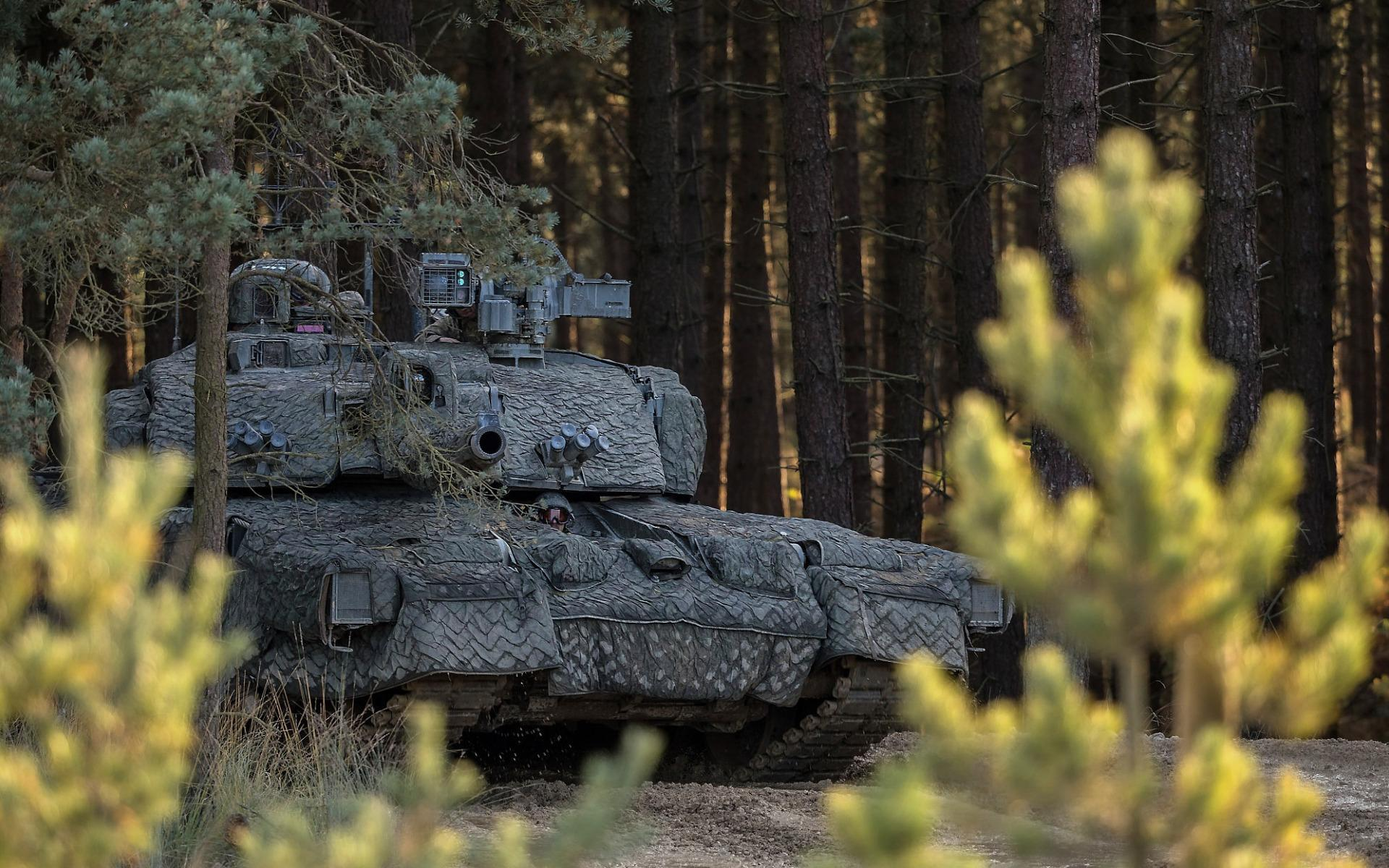tank: (32, 210, 1017, 789)
